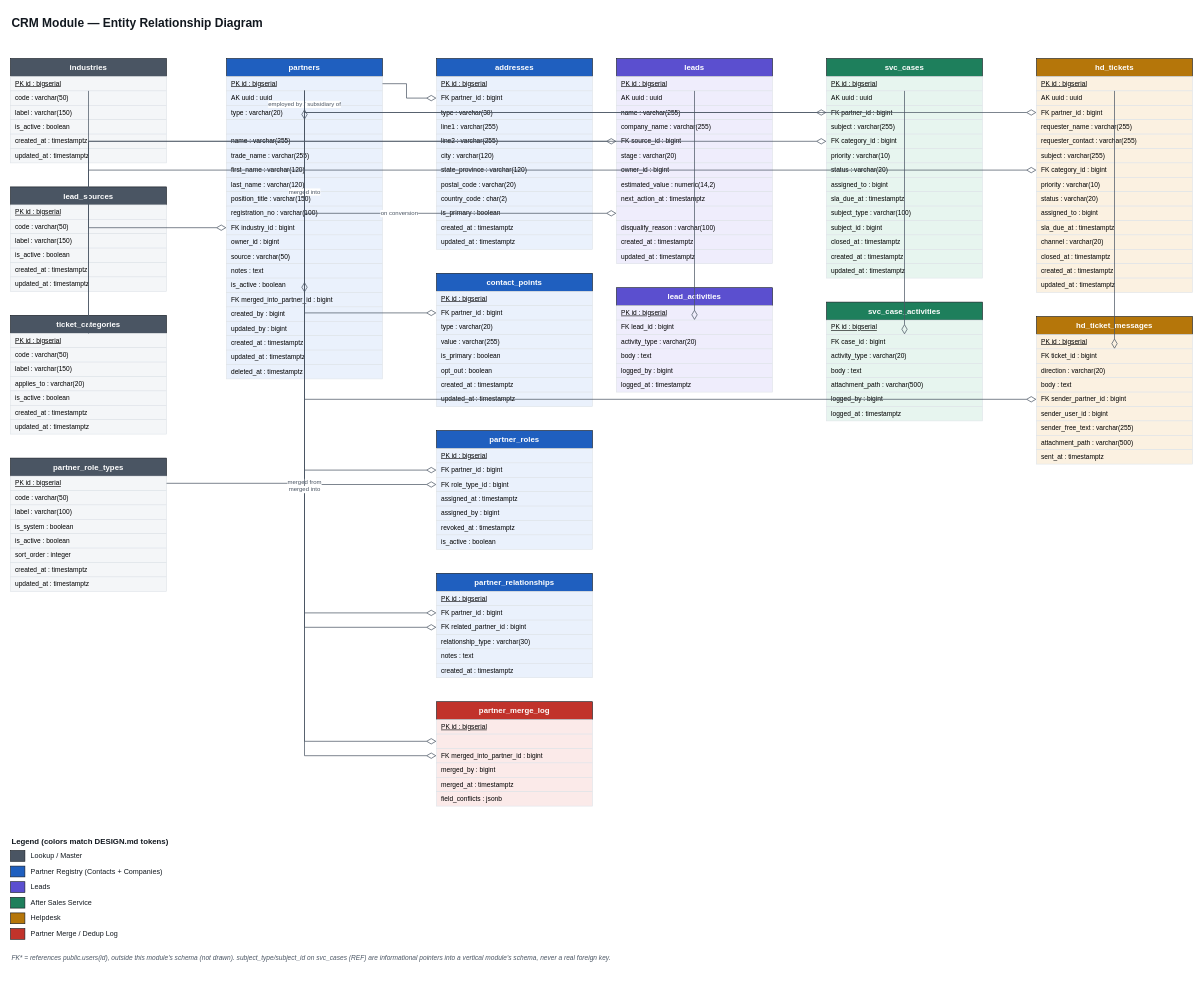
The diagram is 1203 pixels wide and 984 high, and some of its shapes have lost their labels. The shapes that lost their labels are listed below. From the top down, each one's box as (x1, y1, x2, y2) in pixels, then its label:
(226, 119, 382, 134): FK parent_partner_id : bigint
(616, 206, 772, 220): FK converted_partner_id : bigint
(436, 734, 592, 748): FK merged_from_partner_id : bigint
